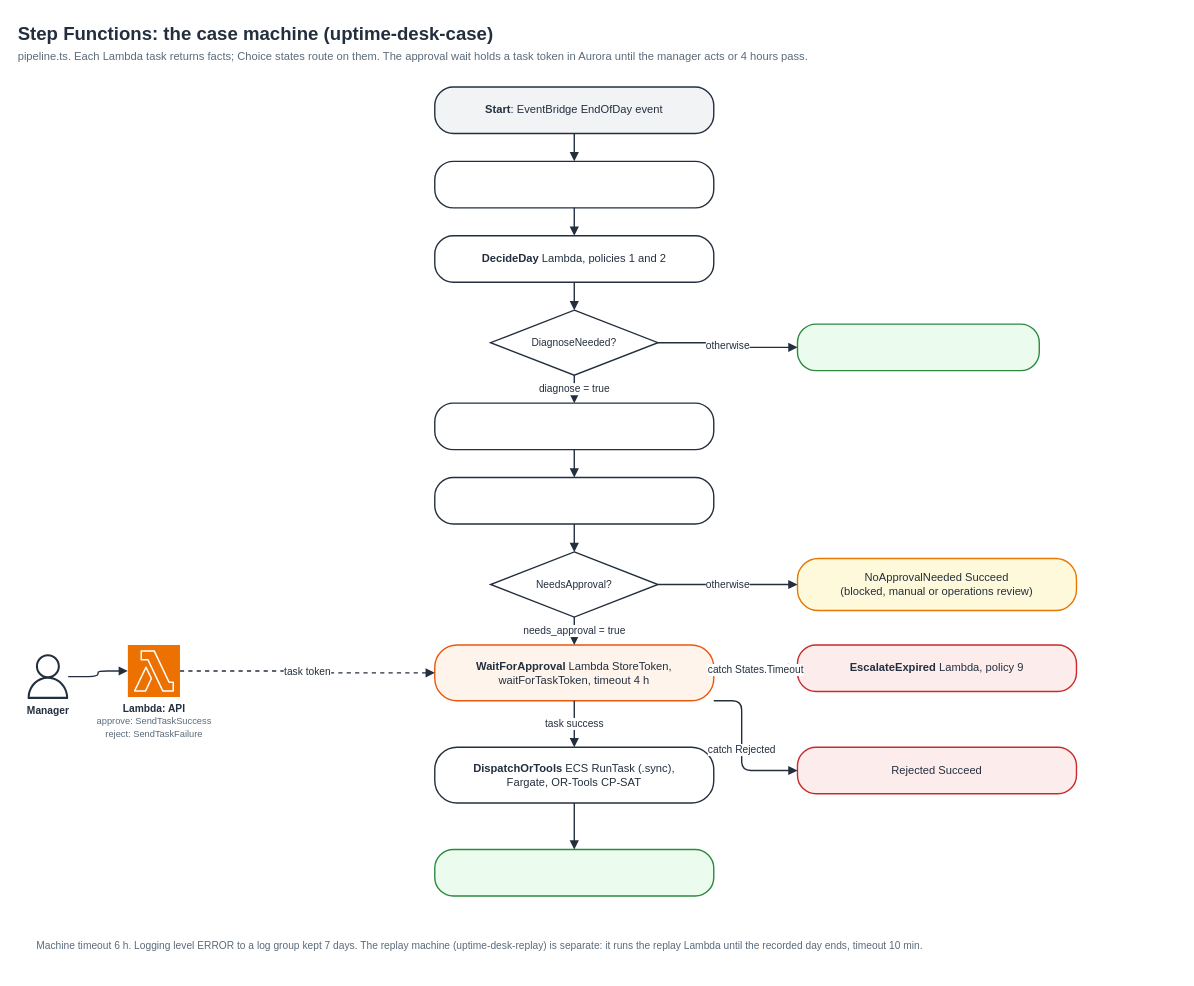
Some shapes in this 1194 by 986 pixel diagram are drawn without their labels. Here are the shapes that lost their labels. From the top down, the centre of each, then its label:
point (574, 184): LetWindowsLand Wait 15 s
point (918, 347): NoDiagnosis Succeed
point (574, 426): DiagnoseCase Lambda, timeout 5 min
point (574, 500): VerifyAndDraft Lambda, timeout 5 min
point (574, 872): Done Succeed
